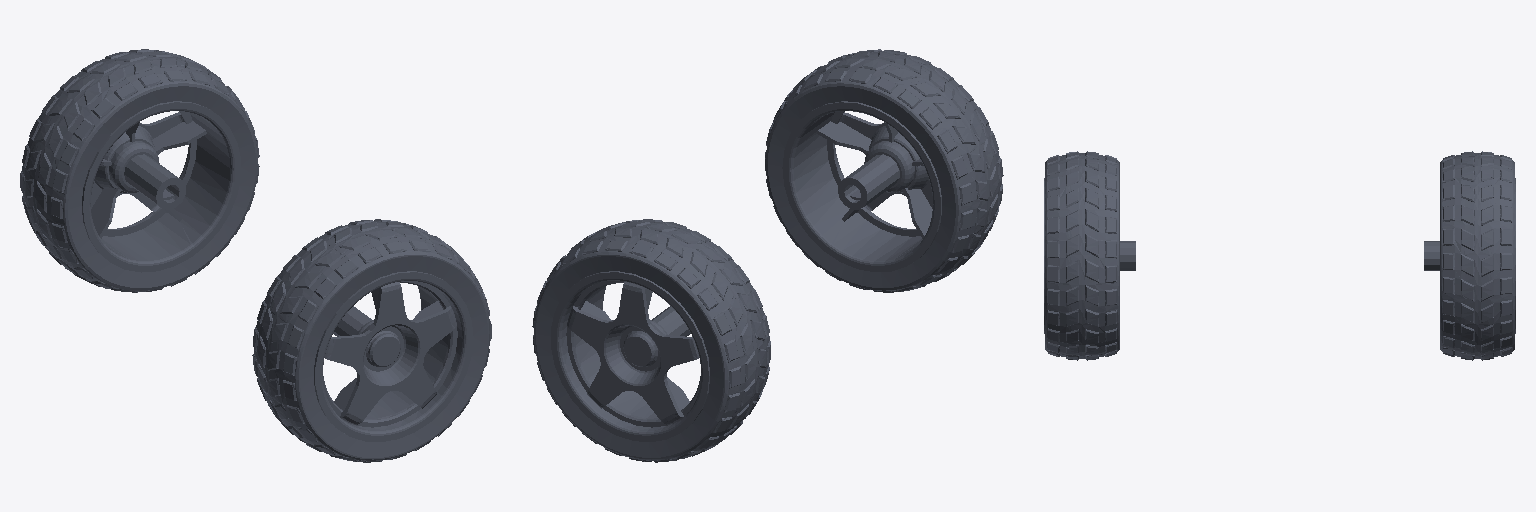
URDF robot description (bot):
<?xml version="1.0" encoding="utf-8"?>
<!-- This URDF describes the ME/CS/EE 169 bot, -->
<!-- with the front edge at the big wheels!    -->

<robot name="bot">

  <!-- Pick the colors.  These are not needed with the obj visuals! -->
  <material name="body">  <color rgba="0.79 0.82 0.93 1"/> </material>
  <material name="wheel"> <color rgba="0.39 0.41 0.46 1"/> </material>

  <!-- The base is the midpoint between the wheels on the ground. -->
  <!-- With the x-axis pointing forward.                          -->
  <link name="base"/>

  <!-- Move up to the wheel axle (midway between the wheels). -->
  <!-- With the x-axis pointing forward.                      -->
  <joint name="basetoaxle" type="fixed">
    <parent link="base"/>
    <child  link="axle"/>
    <origin xyz="0 0 0.0328" rpy="0 0 0"/>
  </joint>

  <link name="axle"/>

  <!-- Left wheel, rotated to z pointing left. The frame is centered  -->
  <!-- above the middle of the wheel, visual attached at the outside. -->
  <joint name="leftwheeljoint" type="fixed">
    <parent link="axle"/>
    <child  link="leftwheel"/>
    <origin xyz="0 0.0650 0" rpy="1.5708 0 -3.1416"/>
    <axis   xyz="0 0 1"/>
  </joint>

  <link name="leftwheel">
    <visual>
      <origin xyz="0 0 0.0126" rpy="0 0 0"/>
      <geometry>
        <mesh filename="package://bot_description/meshes/wheel.obj"/>
      </geometry>
      <material name="wheel"/>
    </visual>
  </link>

  <!-- Right wheel, rotated to z pointing right. The frame is centered -->
  <!-- above the middle of the wheel, visual attached at the outside.  -->
  <joint name="rightwheeljoint" type="fixed">
    <parent link="axle"/>
    <child  link="rightwheel"/>
    <origin xyz="0 -0.0650 0" rpy="1.5708 0 0"/>
    <axis   xyz="0 0 1"/>
  </joint>

  <link name="rightwheel">
    <visual>
      <origin xyz="0 0 0.0126" rpy="0 0 0"/>
      <geometry>
        <mesh filename="package://bot_description/meshes/wheel.obj"/>
      </geometry>
      <material name="wheel"/>
    </visual>
  </link>

  <!-- Rotate to match the body.  The x-axis points to the caster. -->
  <!-- We also attach the visual model here.                       -->
  <joint name="axletobody" type="fixed">
    <parent link="axle"/>
    <child  link="body"/>
    <origin xyz="0 0 0" rpy="0 0 3.1416"/>
  </joint>

  <link name="body">
    <visual>
      <origin xyz="0.0459 0 0.0130" rpy="1.5708 0 1.5708"/>
      <geometry>
        <mesh filename="package://bot_description/meshes/base_link.obj"/>
      </geometry>
      <material name="body"/>
    </visual>
  </link>

  <!-- Lidar = scan frame                            -->
  <!-- The lidar is 0.0960 above the wheel axle.     -->
  <!--          and 0.0675 behind toward the caster. -->
  <joint name="bodytolidar" type="fixed">
    <parent link="body"/>
    <child  link="lidar"/>
    <origin xyz="0.0675 0 0.0960" rpy="0 0 0"/>
  </joint>

  <link name="lidar"/>

</robot>

--- Render facts (derived) ---
Views: 3 orthographic renders of the robot side by side, from view 1: azimuth 30°, elevation 25°; view 2: azimuth 150°, elevation 25°; view 3: azimuth 270°, elevation 25°.
Robot: bot — 6 links, 5 joints (5 fixed); root link base; default pose: all joints at 0.
Links seen in each view (by area): view 1: leftwheel, rightwheel; view 2: rightwheel, leftwheel; view 3: rightwheel, leftwheel.
Boxes of the visible links, x1=… form: leftwheel: x1=20, y1=49, x2=259, y2=292; rightwheel: x1=252, y1=219, x2=491, y2=462; rightwheel: x1=765, y1=49, x2=1003, y2=292; leftwheel: x1=532, y1=219, x2=770, y2=462; rightwheel: x1=1044, y1=151, x2=1135, y2=360; leftwheel: x1=1424, y1=151, x2=1515, y2=360.
Bounding box of the posed robot: 0.0689 × 0.1552 × 0.0688 m (x, y, z).
2 mesh visuals loaded from 2 distinct referenced files (1 OBJ); not drawn: 1 (reference not matched to a file when rendering).
